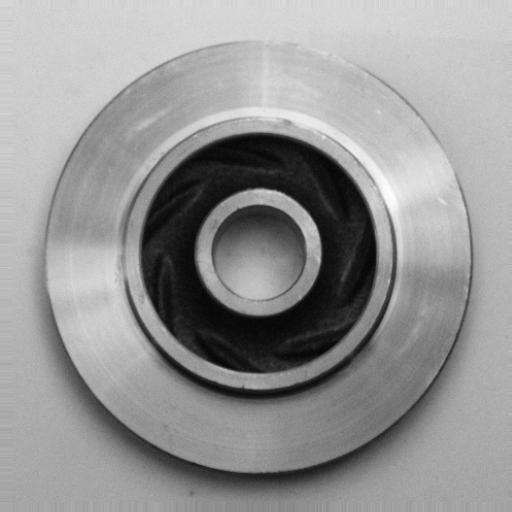unpolished_casting: (43, 36, 473, 478)
